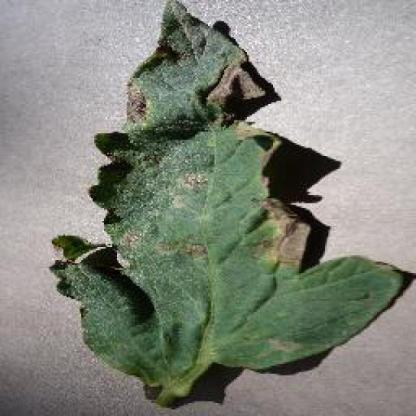Tomato_Blight: (46, 0, 404, 399)
